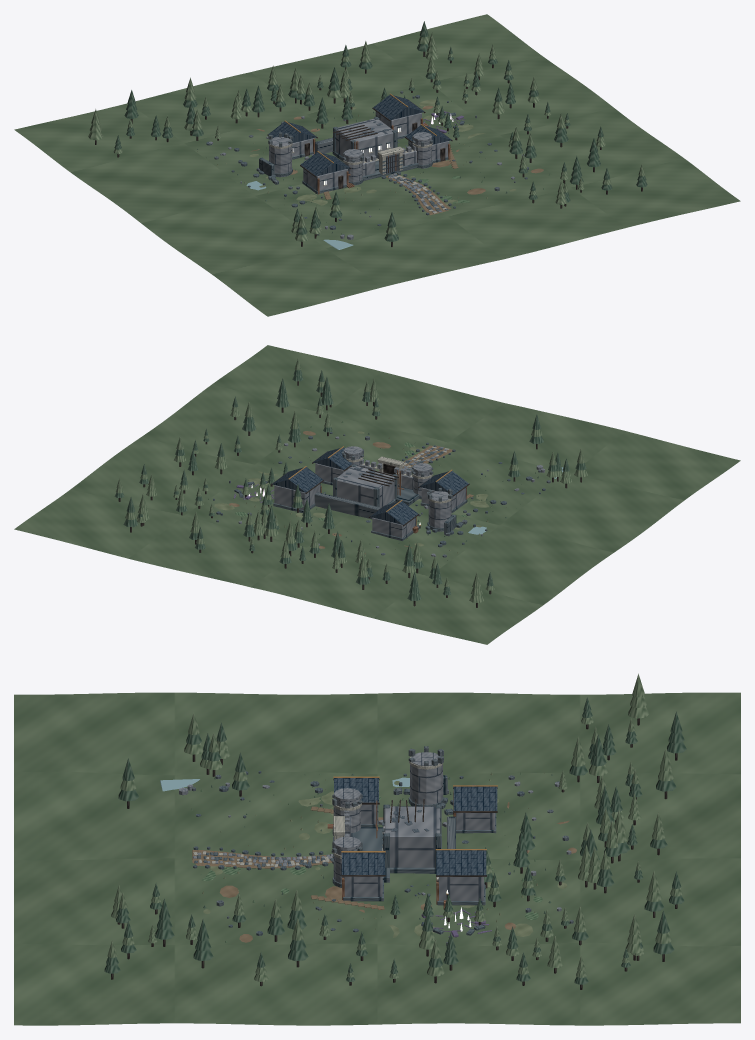
Rendered from CC0_Valoria_Stage2.glb.
The picture shows the model from 3 angles, top to bottom: view 1: azimuth 30°, elevation 25°; view 2: azimuth 150°, elevation 25°; view 3: azimuth 270°, elevation 25°; orthographic projection. The views are drawn at different scales.
Parts seen in each view (by area): view 1: worn Valoria terrain mesh, bastion | great hall, Barracks lodge | pitched slate, watchtower core.005, Timber workshop | pitched slate, Timber workshop | stone and wood, Barracks lodge | stone and wood, Stone quarry | pitched slate; view 2: worn Valoria terrain mesh, bastion | great hall, old wall | rear foot, Barracks lodge | pitched slate, watchtower core.005, Stone quarry | pitched slate, Timber workshop | pitched slate, Barracks lodge | stone and wood, Stone quarry | stone and wood; view 3: worn Valoria terrain mesh, bastion | great hall, watchtower core.005, Barracks lodge | pitched slate, Stone quarry | pitched slate, Barracks lodge | stone and wood, Granary | pitched slate, Granary | stone and wood, Timber workshop | pitched slate, entry court | fortified foundation, Stone quarry | stone and wood.
Boxes of the visible parts, x1,y1,x2,y2 form: worn Valoria terrain mesh: [14, 14, 740, 316]; bastion | great hall: [336, 118, 393, 160]; Barracks lodge | pitched slate: [373, 95, 424, 120]; watchtower core.005: [269, 137, 291, 177]; Timber workshop | pitched slate: [301, 152, 349, 176]; Timber workshop | stone and wood: [303, 168, 347, 190]; Barracks lodge | stone and wood: [375, 111, 421, 136]; Stone quarry | pitched slate: [268, 121, 316, 142]; worn Valoria terrain mesh: [14, 345, 740, 644]; bastion | great hall: [337, 466, 394, 507]; old wall | rear foot: [314, 492, 380, 519]; Barracks lodge | pitched slate: [272, 467, 322, 492]; watchtower core.005: [428, 491, 451, 531]; Stone quarry | pitched slate: [369, 501, 418, 524]; Timber workshop | pitched slate: [419, 471, 468, 494]; Barracks lodge | stone and wood: [274, 484, 320, 509]; Stone quarry | stone and wood: [372, 517, 415, 537]; worn Valoria terrain mesh: [14, 692, 740, 1025]; bastion | great hall: [384, 806, 440, 867]; watchtower core.005: [410, 752, 442, 804]; Barracks lodge | pitched slate: [436, 850, 486, 875]; Stone quarry | pitched slate: [453, 786, 497, 810]; Barracks lodge | stone and wood: [438, 877, 483, 900]; Granary | pitched slate: [342, 852, 384, 874]; Granary | stone and wood: [344, 876, 382, 896]; Timber workshop | pitched slate: [334, 778, 378, 802]; entry court | fortified foundation: [351, 827, 389, 882]; Stone quarry | stone and wood: [456, 813, 494, 829].
Bounding box in the file's own units: 112 × 8.81 × 104.
29 materials, 23 textured.
